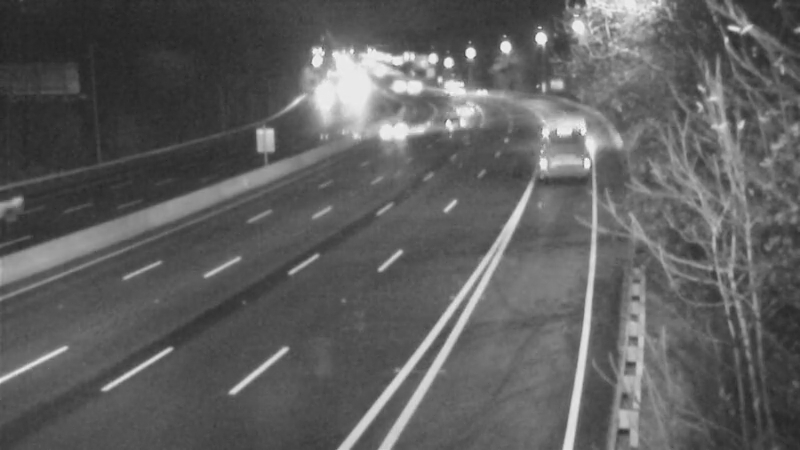vehicle: (1, 167, 66, 247), (424, 57, 474, 107), (371, 61, 421, 111), (383, 63, 433, 113), (455, 66, 505, 116), (438, 86, 488, 136), (423, 95, 473, 145), (528, 119, 578, 169)
